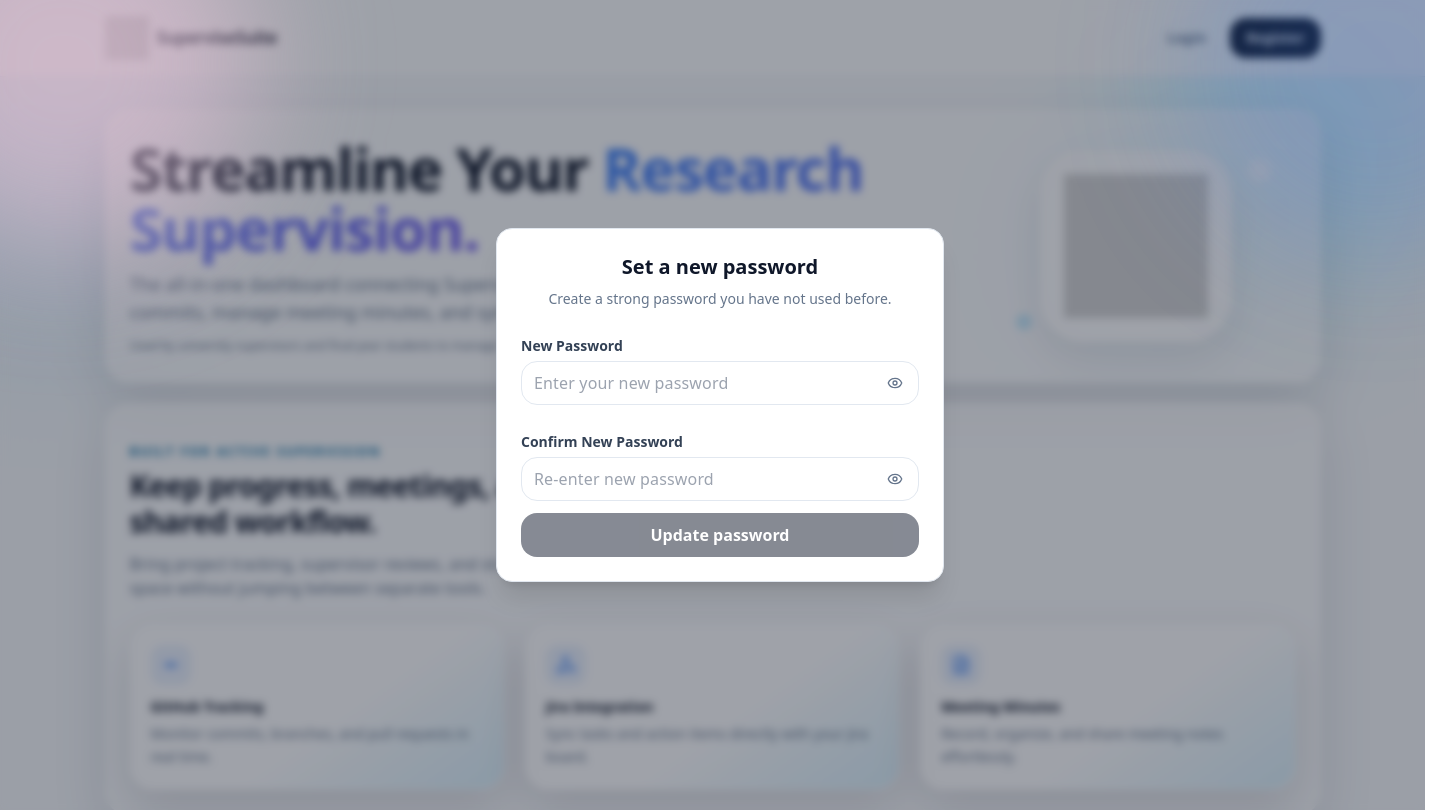
Test: ResetPasswordPage › shows backend detail message in submit error modal with retry action
The width and height of the screenshot is (1440, 810).
Expected: the heading "Set a new password" is shown, [622,253,818,281]
Type "my dog loves eating pizza" into the password field labelled "New Password" at [720, 383], box [521,361,919,405]
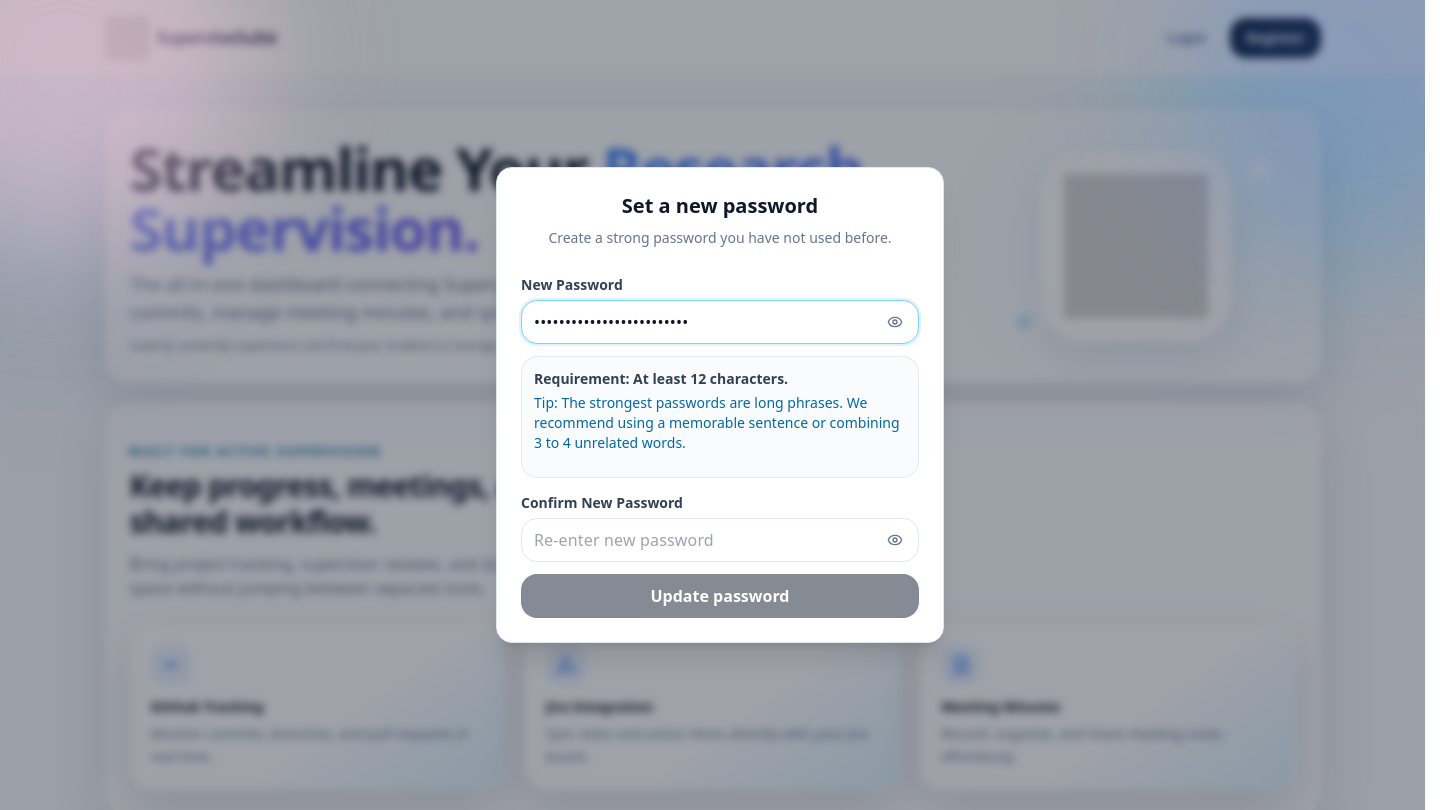
Type "my dog loves eating pizza" into the password field labelled "Confirm New Password" at [720, 540], box [521,518,919,562]
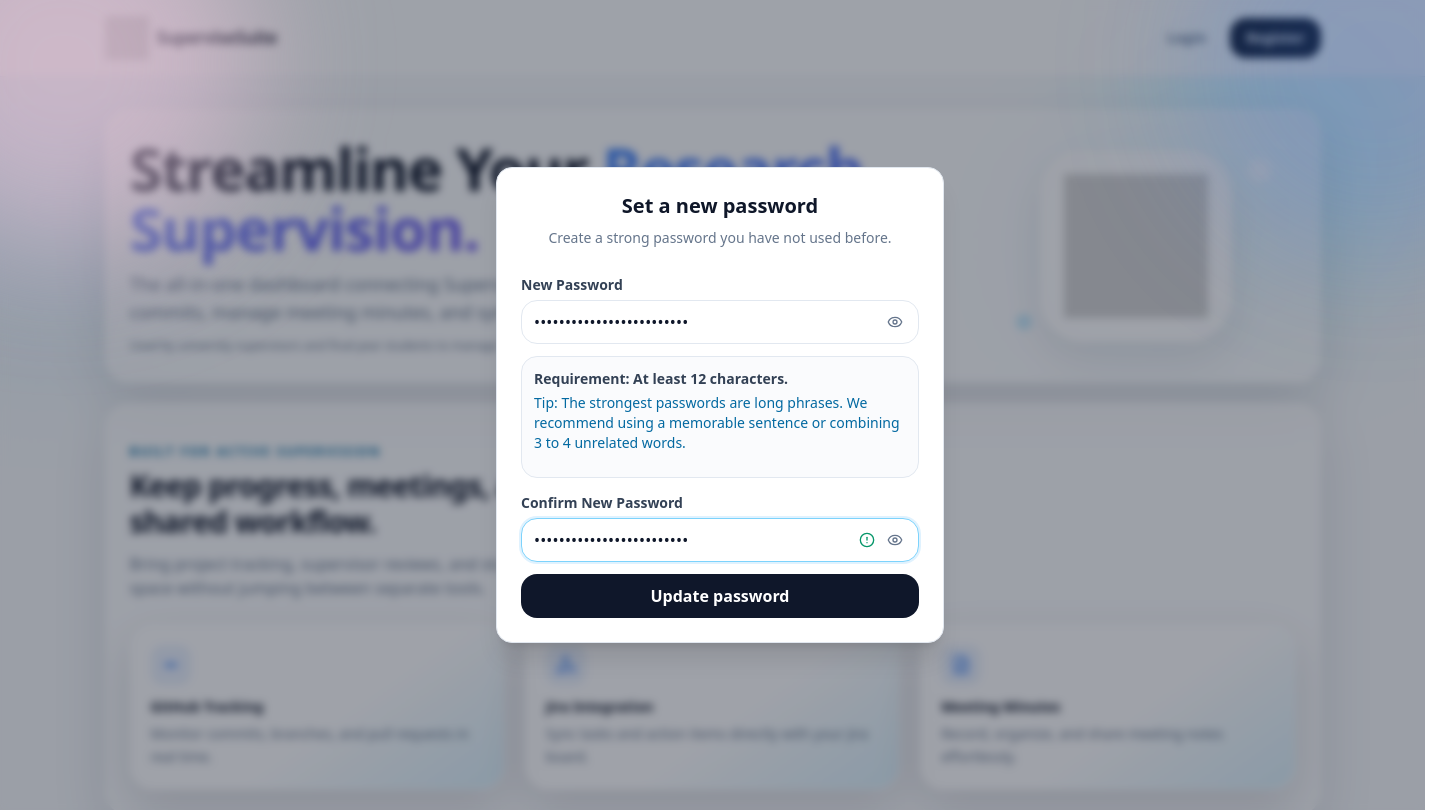
Click the button "Update password" at [720, 596], box [521,574,919,618]
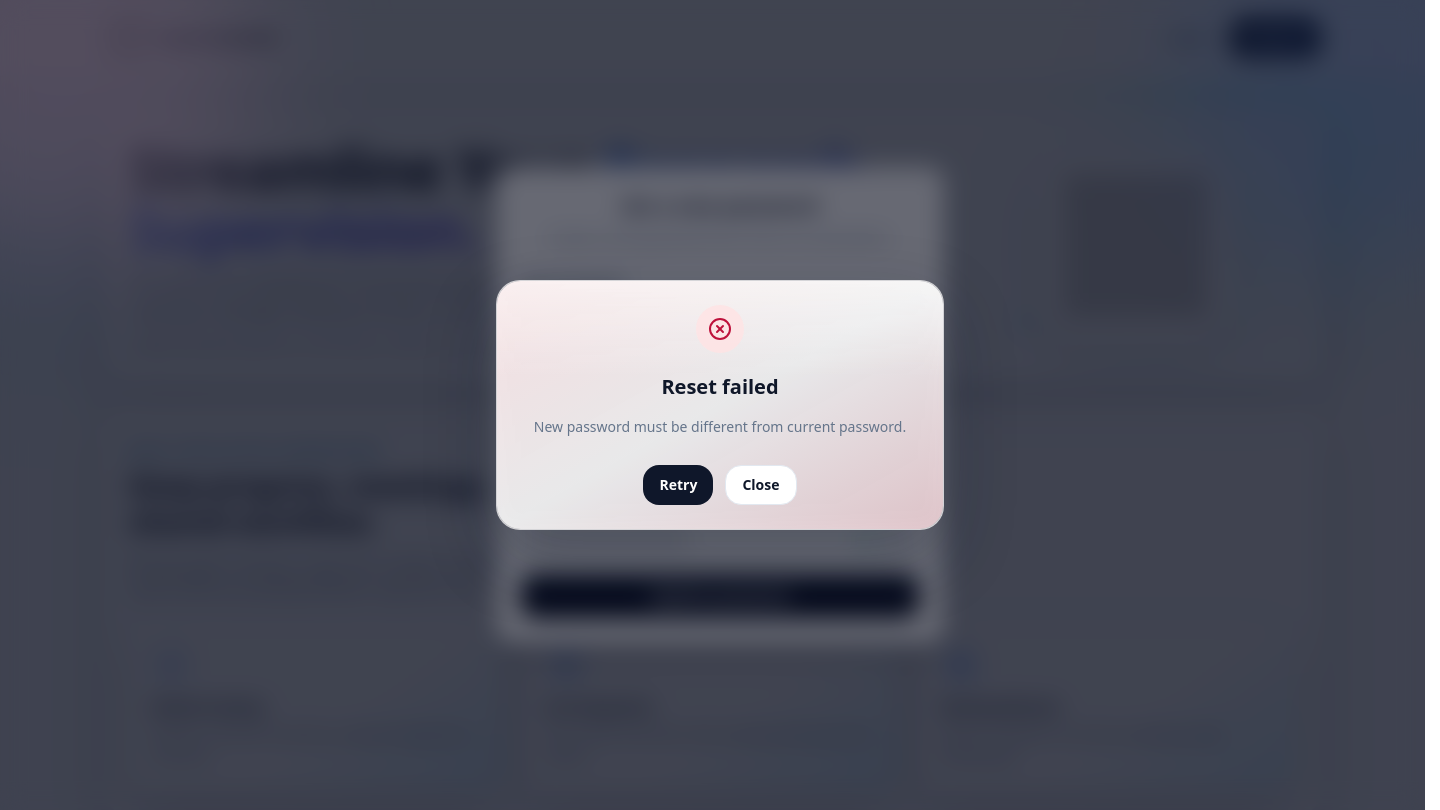
Result: the heading "Reset failed" is shown at [661,373,779,401]
Result: the text "New password must be different from current password." is shown at [534,413,906,441]
Result: the button "Retry" is shown
Click the button "Retry" at [678, 485], box [644,465,713,505]
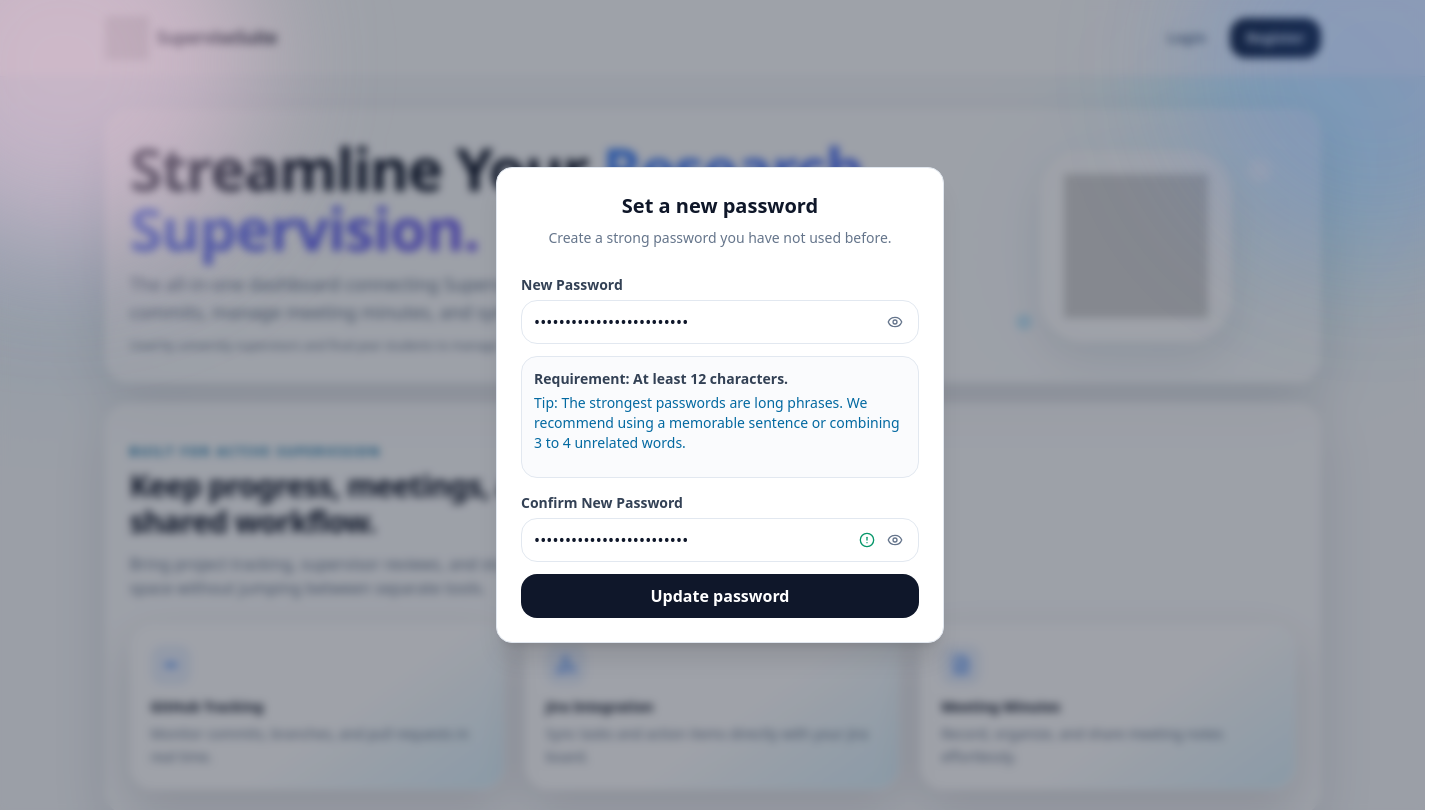
Result: the heading "Reset failed" is gone
